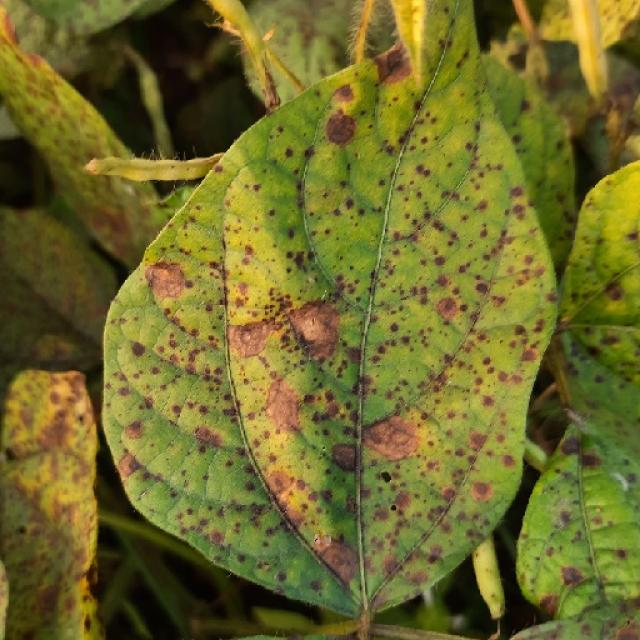Anthracnose: (287, 301, 342, 364), (361, 416, 423, 461), (29, 405, 82, 457), (315, 539, 360, 586), (264, 380, 302, 434), (227, 319, 278, 359), (150, 259, 190, 303), (371, 42, 411, 84), (88, 207, 125, 248), (325, 111, 357, 146), (33, 582, 63, 618), (267, 469, 294, 497), (330, 443, 357, 470), (193, 425, 223, 448), (435, 295, 461, 321), (116, 452, 142, 478), (470, 481, 495, 502), (560, 565, 584, 585), (467, 430, 489, 451), (124, 420, 146, 441), (559, 435, 581, 456), (333, 84, 355, 104), (604, 282, 624, 302), (393, 490, 413, 510), (539, 594, 558, 614), (23, 52, 45, 69), (521, 346, 539, 362), (130, 341, 146, 357), (208, 530, 224, 545), (427, 549, 442, 564), (475, 281, 489, 295), (433, 255, 446, 267)
Blackgram: (104, 0, 555, 614)
